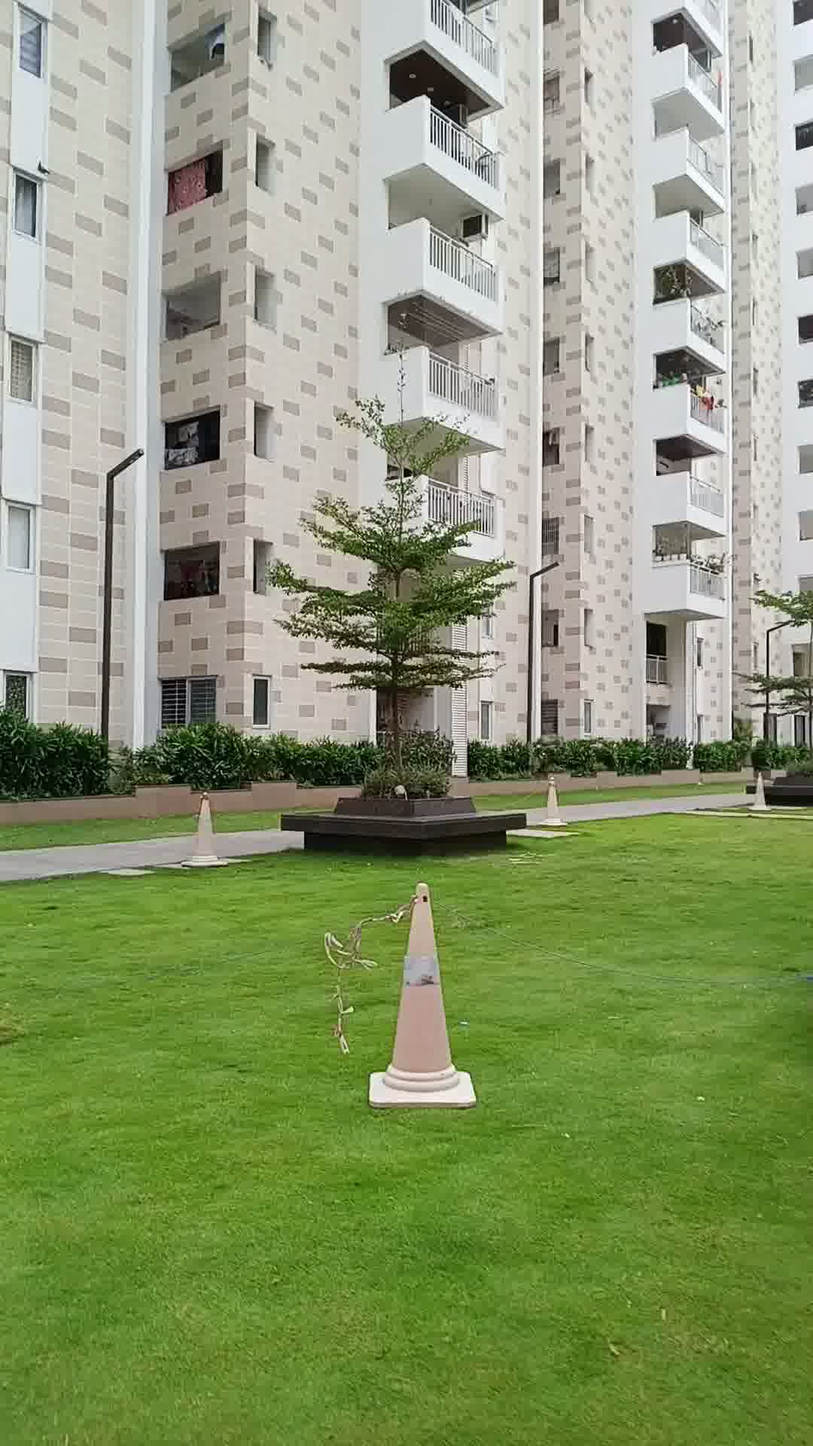tree: (290, 336, 512, 831), (757, 541, 813, 811)
